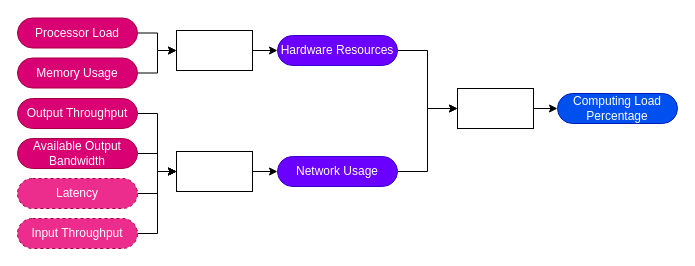
Some shapes in this 695 by 266 pixel diagram are drawn without their labels. The centre of each missing label's shape, as x and y in pixels:
FS_CLP: pixel 495 108
FS_HDR: pixel 214 50
FS_NETU: pixel 214 171
